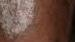plaque psoriasis: (0, 0, 35, 40)
